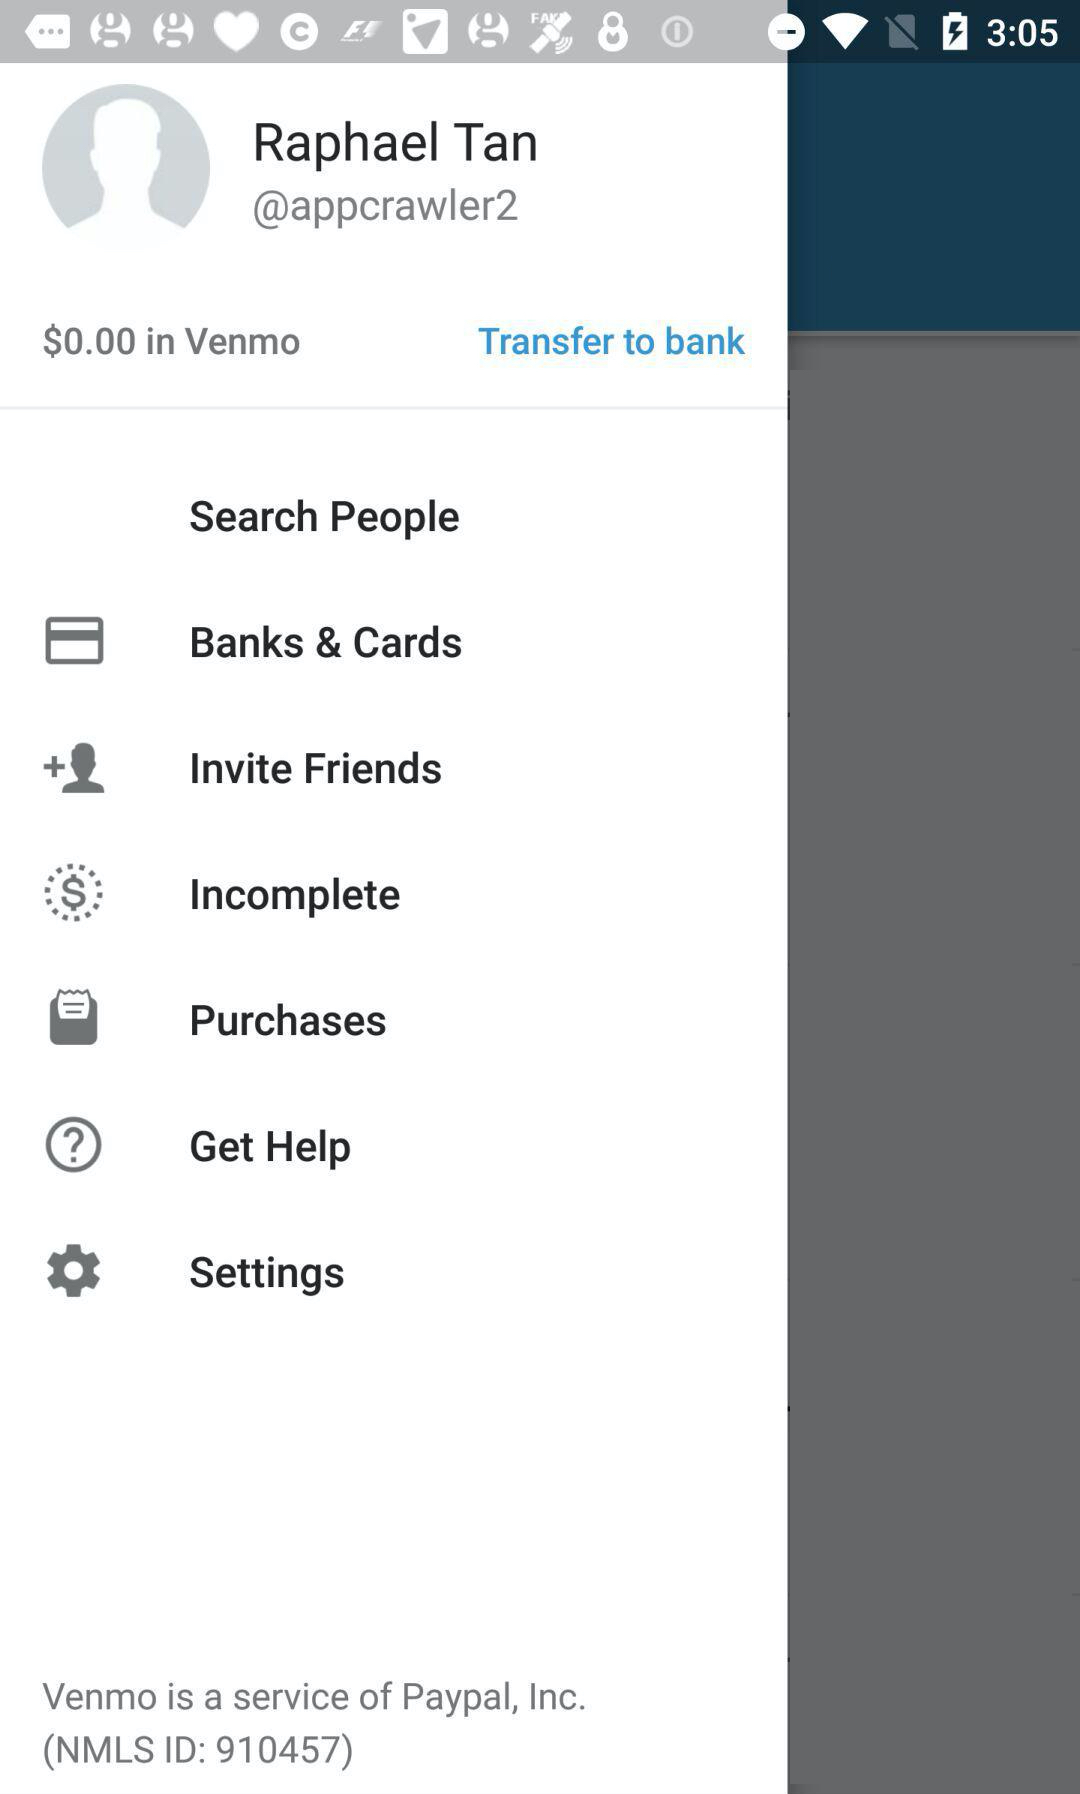Drawer: (1, 64, 787, 1794)
Icon: (41, 83, 213, 240), (44, 862, 105, 924), (46, 1116, 104, 1174), (44, 743, 106, 794), (45, 616, 106, 666), (47, 1243, 102, 1298), (50, 988, 100, 1044)
Text: (42, 1680, 585, 1772), (255, 119, 538, 174), (190, 497, 462, 542), (252, 185, 518, 231), (191, 623, 462, 662), (44, 323, 302, 360), (191, 876, 402, 920), (477, 324, 747, 358), (191, 751, 443, 786), (190, 1128, 354, 1173), (191, 1001, 388, 1038), (190, 1255, 345, 1298)
UpperTaskBar: (1, 1, 1080, 64)
